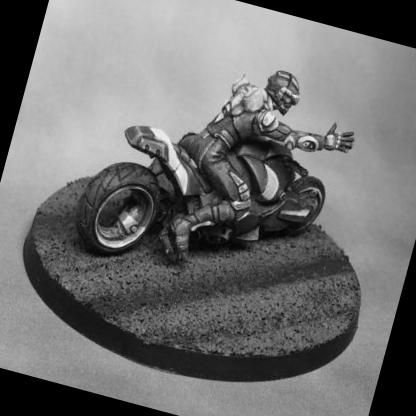moto: (61, 71, 384, 339)
